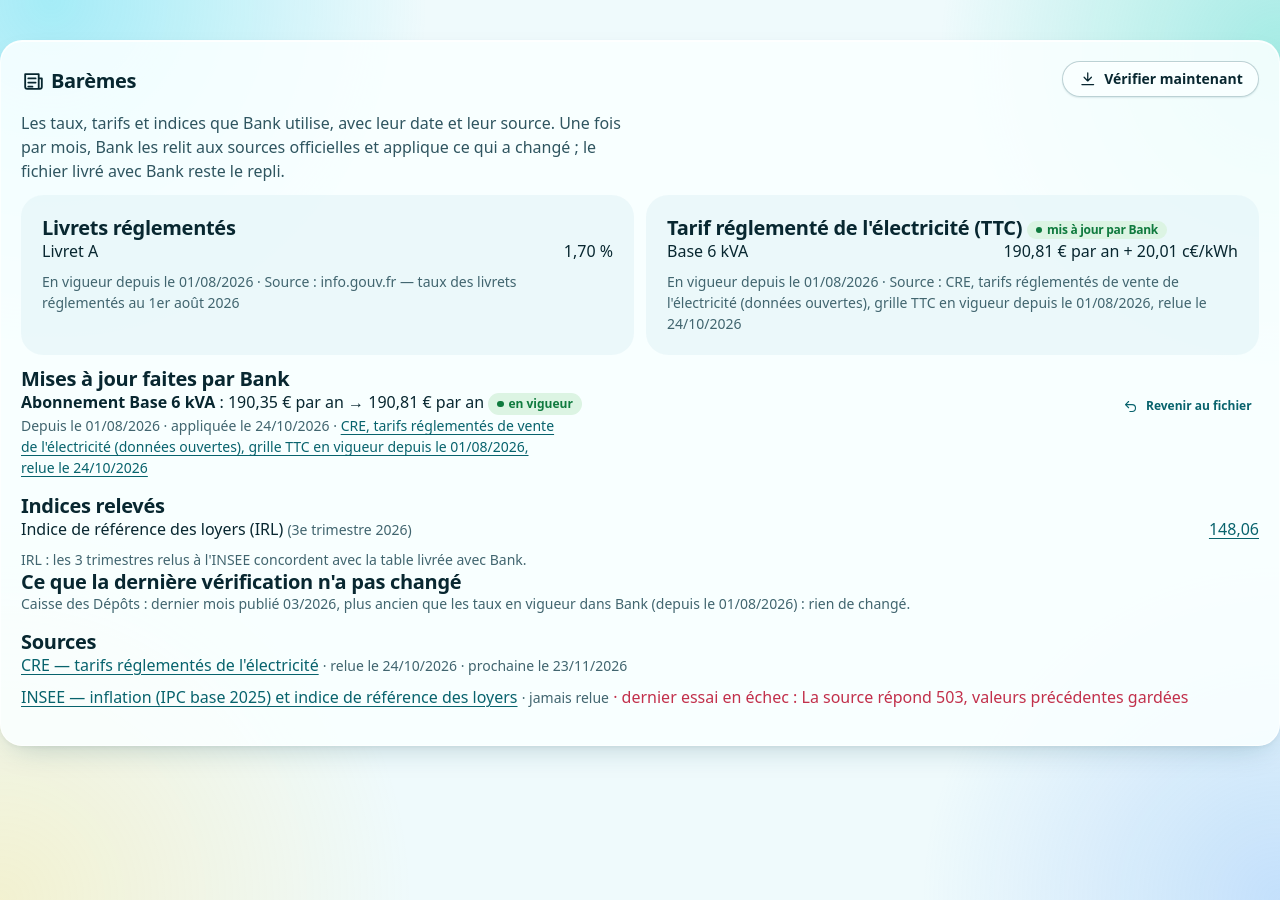
Réglages › Barèmes › returns a value to the shipped file
Click the button "Revenir au fichier": coordinates (1187, 406) x1=1116 y1=390 x2=1259 y2=422
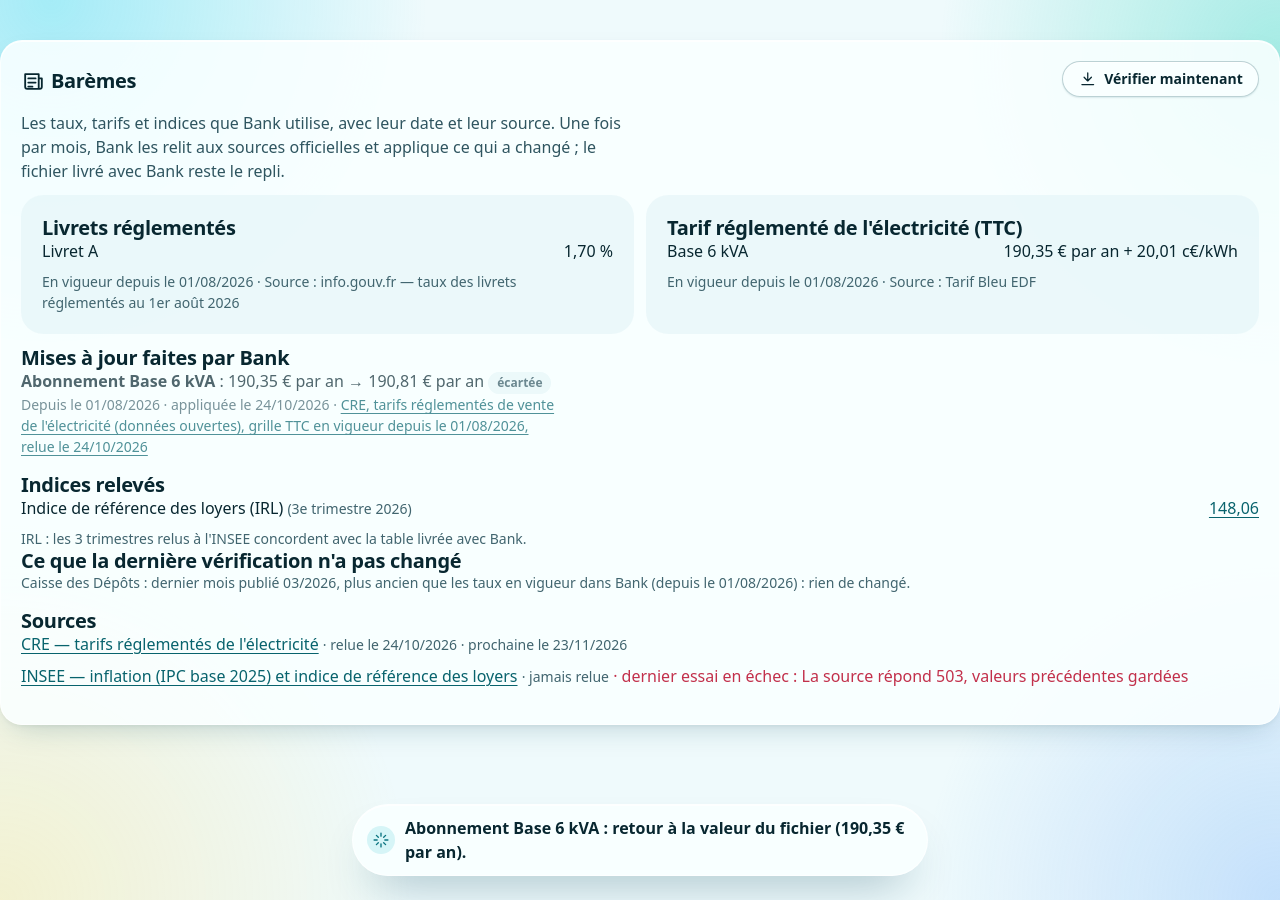
expect the text "écartée" is shown: met, box x1=488 y1=372 x2=551 y2=394
